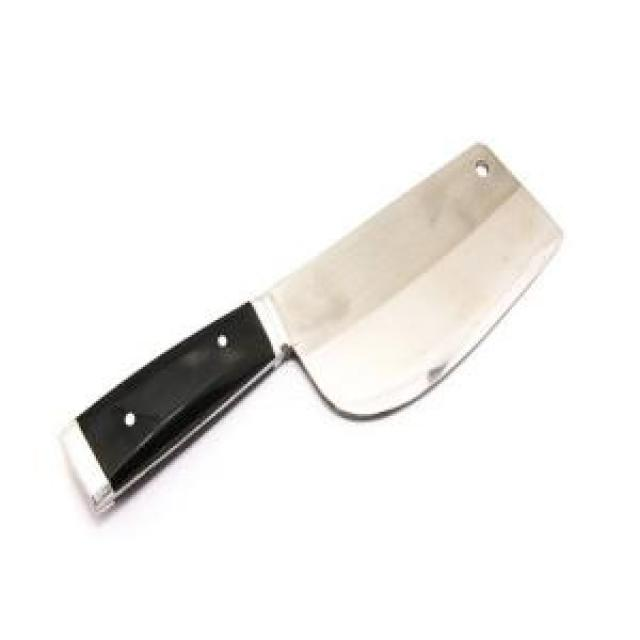knife: (58, 141, 565, 519)
